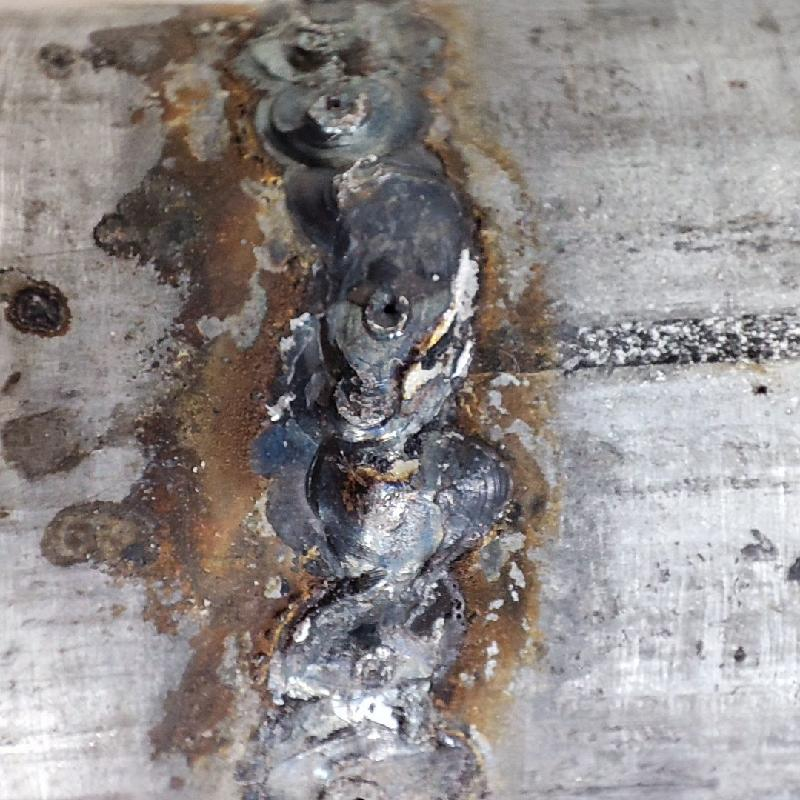Surface_pores: (314, 77, 361, 125), (373, 282, 421, 329)
wrong_size: (255, 10, 515, 580)
